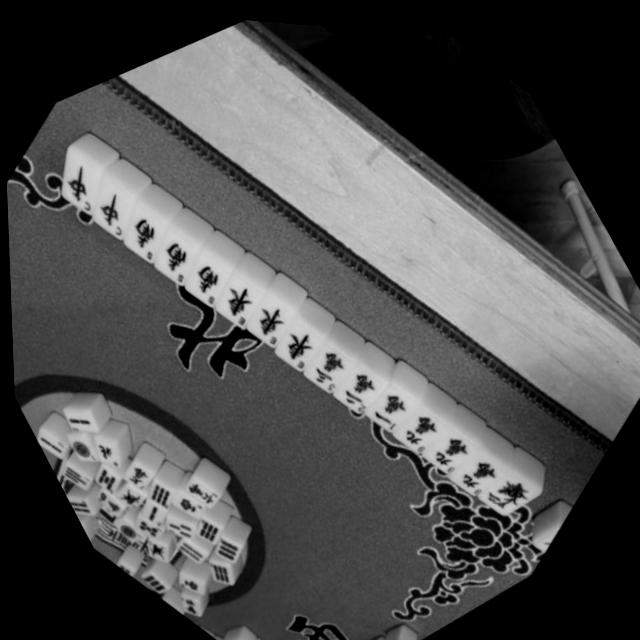bs2: (474, 458, 544, 530)
hdr: (50, 150, 121, 224), (83, 175, 154, 248)
hwe: (236, 285, 307, 359), (266, 309, 336, 382), (207, 264, 277, 336)
hws: (145, 223, 213, 294), (175, 245, 243, 316), (114, 201, 182, 271)
sc1: (357, 374, 425, 444)
sc2: (325, 354, 395, 427)
sc3: (296, 331, 367, 404)
sc9: (443, 439, 516, 514), (416, 416, 486, 489), (388, 397, 458, 469)
